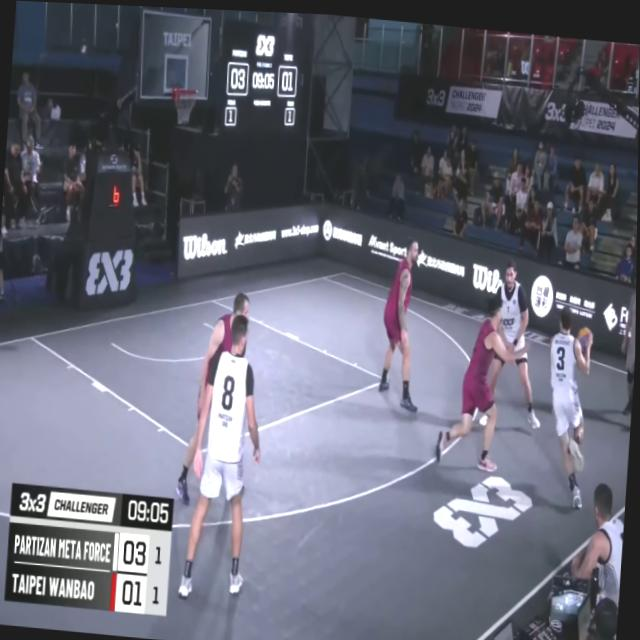ball: (573, 320, 597, 353)
hoop: (170, 80, 199, 127)
player: (181, 309, 273, 602), (174, 273, 259, 515), (438, 287, 525, 473), (484, 253, 552, 428), (539, 302, 596, 499), (376, 230, 433, 412), (568, 484, 628, 619)
